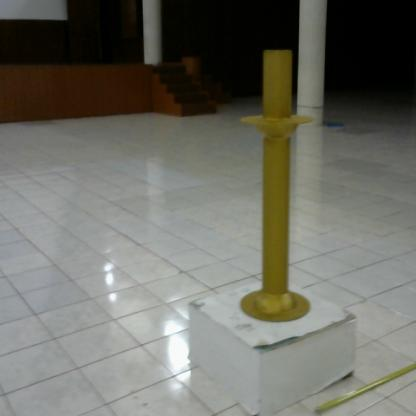pole: (233, 43, 319, 328)
